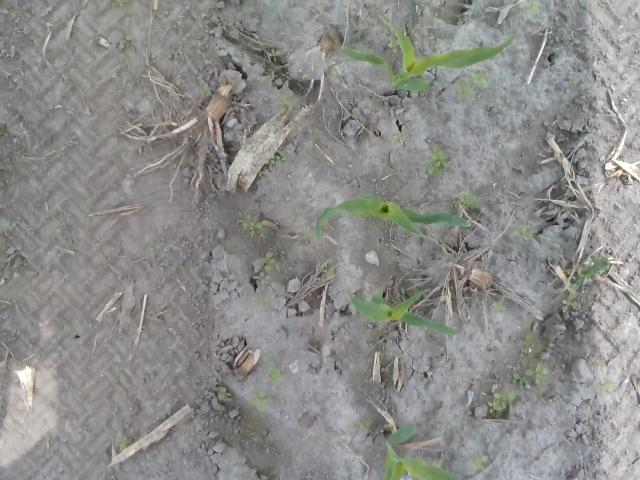Maize: (334, 13, 514, 95), (314, 192, 472, 245), (346, 288, 461, 337), (382, 424, 466, 480)
Weeds: (560, 255, 608, 316), (514, 363, 548, 388), (458, 70, 488, 96), (428, 142, 448, 176), (488, 391, 515, 416), (238, 215, 264, 238), (512, 226, 548, 240), (253, 391, 276, 412), (346, 418, 372, 436), (466, 456, 490, 473), (258, 252, 276, 272), (268, 360, 283, 383), (276, 95, 292, 115), (42, 422, 53, 449), (250, 296, 270, 310), (523, 1, 542, 14), (254, 272, 274, 283), (396, 130, 410, 144), (597, 383, 613, 395), (215, 386, 228, 400), (200, 84, 212, 98), (492, 301, 506, 312), (120, 436, 130, 451), (267, 47, 283, 56), (567, 74, 581, 84), (120, 35, 130, 49), (268, 70, 278, 82), (594, 358, 602, 369)
